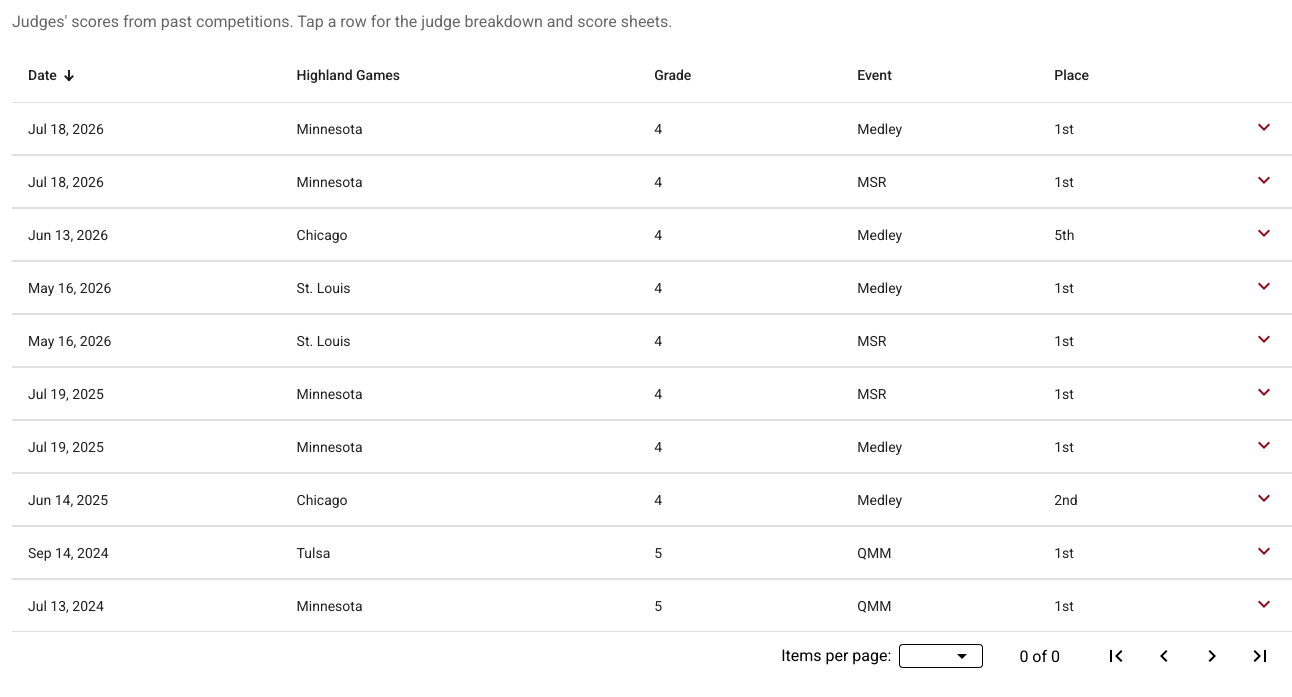
CompetitionsComponent › should show judge scores and files when a row is expanded
The image size is (1292, 697).
Click the 1st row with class "result-row": (652, 129) [12, 103, 1291, 155]
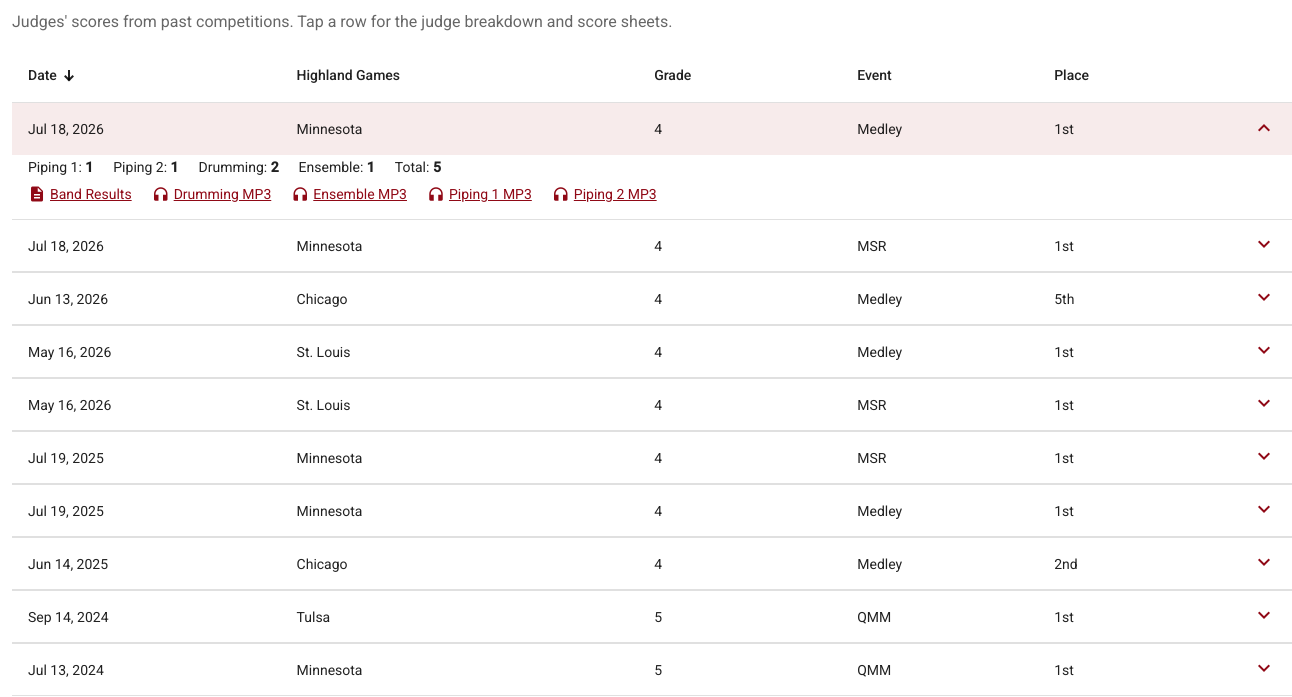
expect the element with class "detail" is shown: met, box [28, 159, 657, 203]
expect the element with class "detail" shows "Piping 1": met, box [28, 159, 85, 175]
expect the number of links is 5: met, box [28, 185, 132, 203]; [152, 185, 271, 203]; [291, 185, 407, 203]; [427, 185, 532, 203]; [552, 185, 657, 203]
